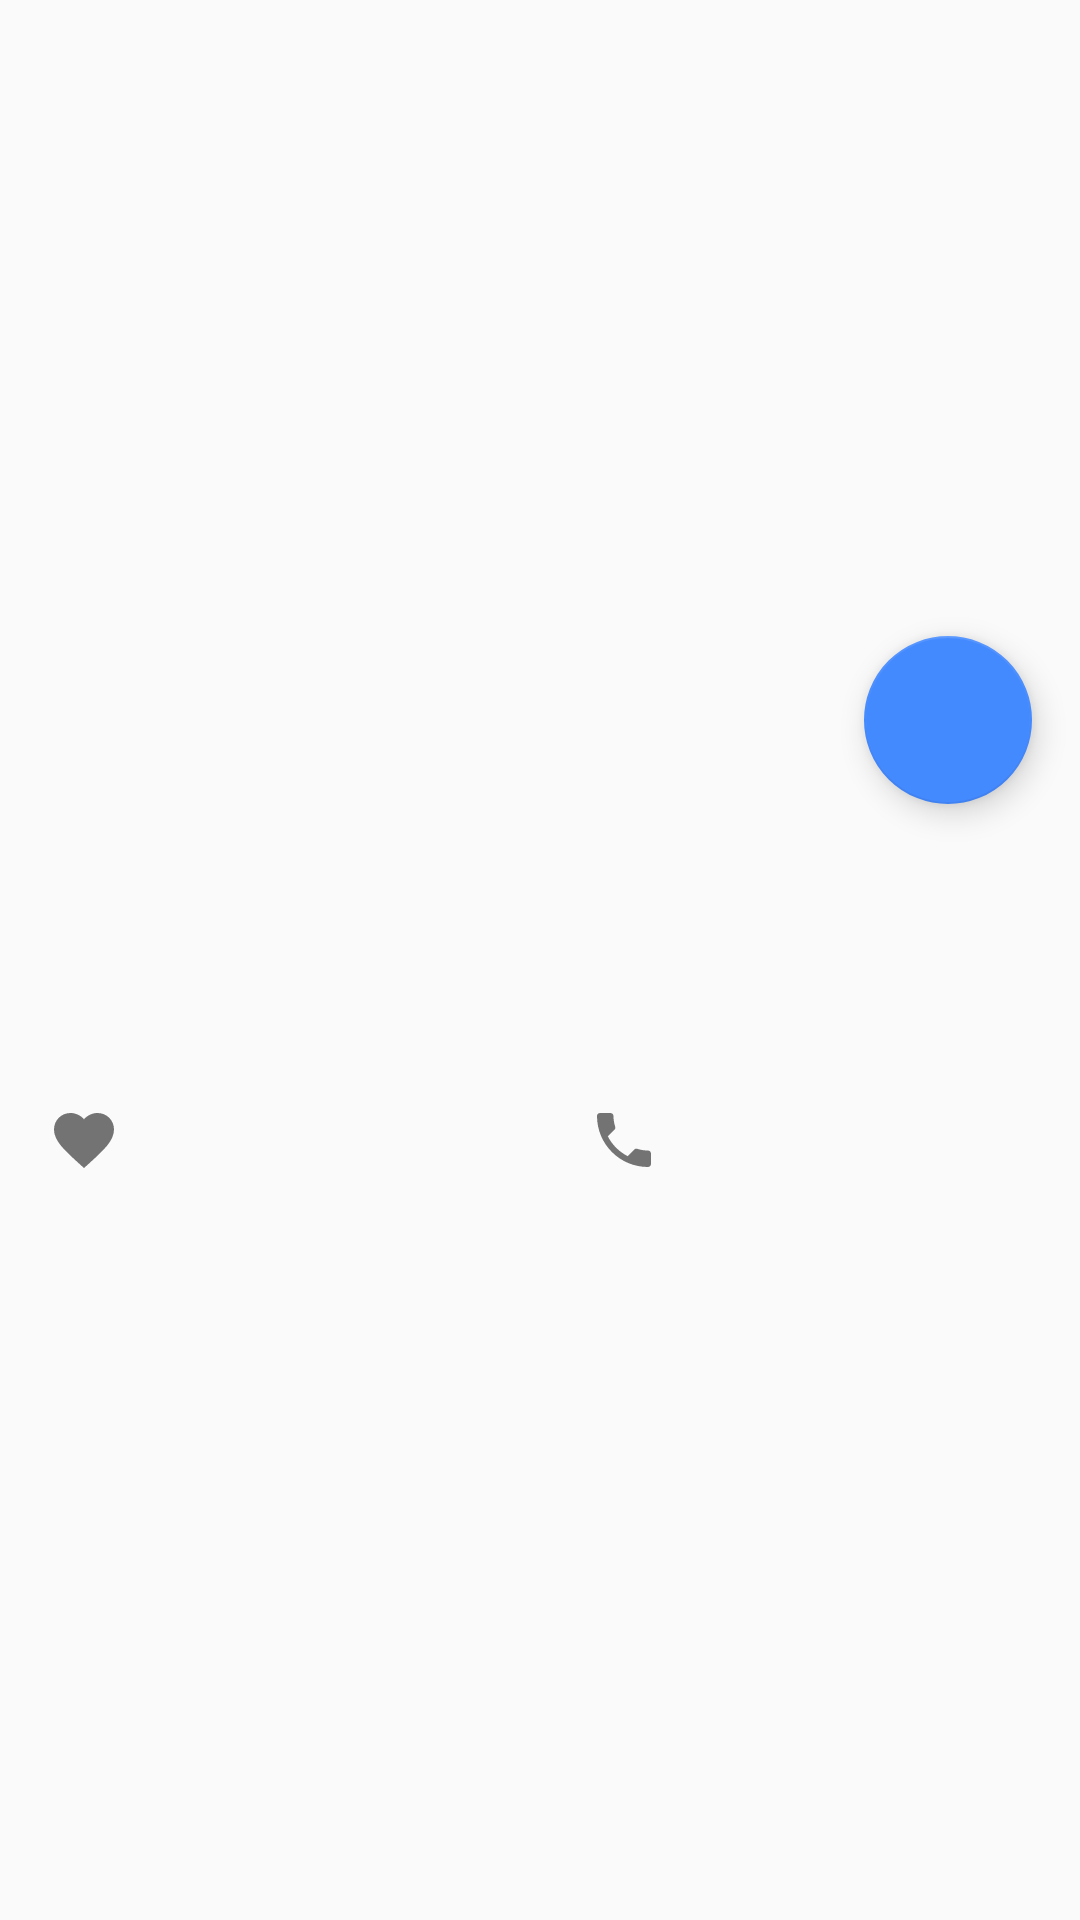

Locate icon controls on the screen. Image size 1080px x 1920px, boxes as (x1, y1, x2, y2).
unliked: (54, 1113, 114, 1168)
